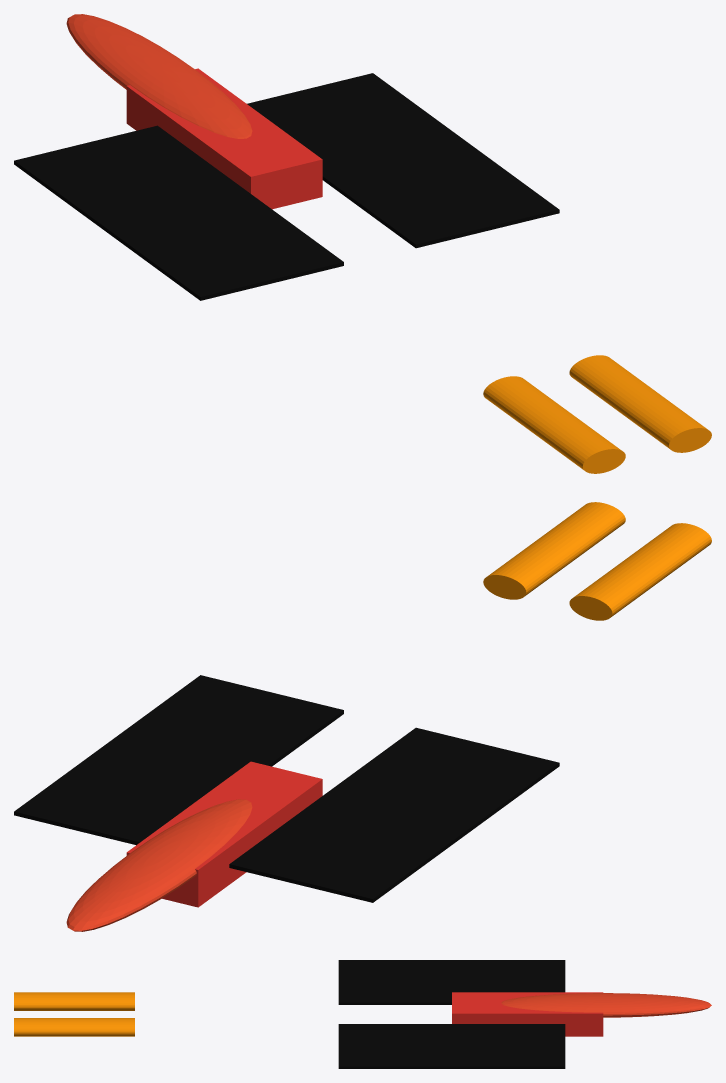
File: ship2.glb
The picture shows the model from 3 angles, top to bottom: view 1: azimuth 30°, elevation 25°; view 2: azimuth 150°, elevation 25°; view 3: azimuth 270°, elevation 25°; orthographic projection. The views are drawn at different scales.
Visible parts, largest first — view 1: Cube.001, Cube.002, Cube, Sphere, Cylinder, Cylinder.001; view 2: Cube.001, Cube.002, Sphere, Cube, Cylinder.001, Cylinder; view 3: Cube.002, Cube.001, Cube, Sphere, Cylinder, Cylinder.001.
Part boxes in pixels (x1=…): Cube.001: x1=14, y1=125, x2=343, y2=300; Cube.002: x1=247, y1=73, x2=559, y2=248; Cube: x1=126, y1=68, x2=322, y2=209; Sphere: x1=66, y1=14, x2=252, y2=138; Cylinder: x1=483, y1=376, x2=625, y2=473; Cylinder.001: x1=569, y1=355, x2=711, y2=452; Cube.001: x1=229, y1=727, x2=559, y2=902; Cube.002: x1=14, y1=675, x2=343, y2=845; Sphere: x1=66, y1=799, x2=252, y2=931; Cube: x1=126, y1=761, x2=322, y2=907; Cylinder.001: x1=483, y1=502, x2=625, y2=599; Cylinder: x1=569, y1=523, x2=711, y2=620; Cube.002: x1=338, y1=1024, x2=565, y2=1068; Cube.001: x1=338, y1=960, x2=565, y2=1004; Cube: x1=452, y1=992, x2=603, y2=1036; Sphere: x1=501, y1=993, x2=711, y2=1017; Cylinder: x1=14, y1=992, x2=134, y2=1010; Cylinder.001: x1=14, y1=1018, x2=134, y2=1036.
Size of the model in its own units: 5 by 0.6 by 13.86.
